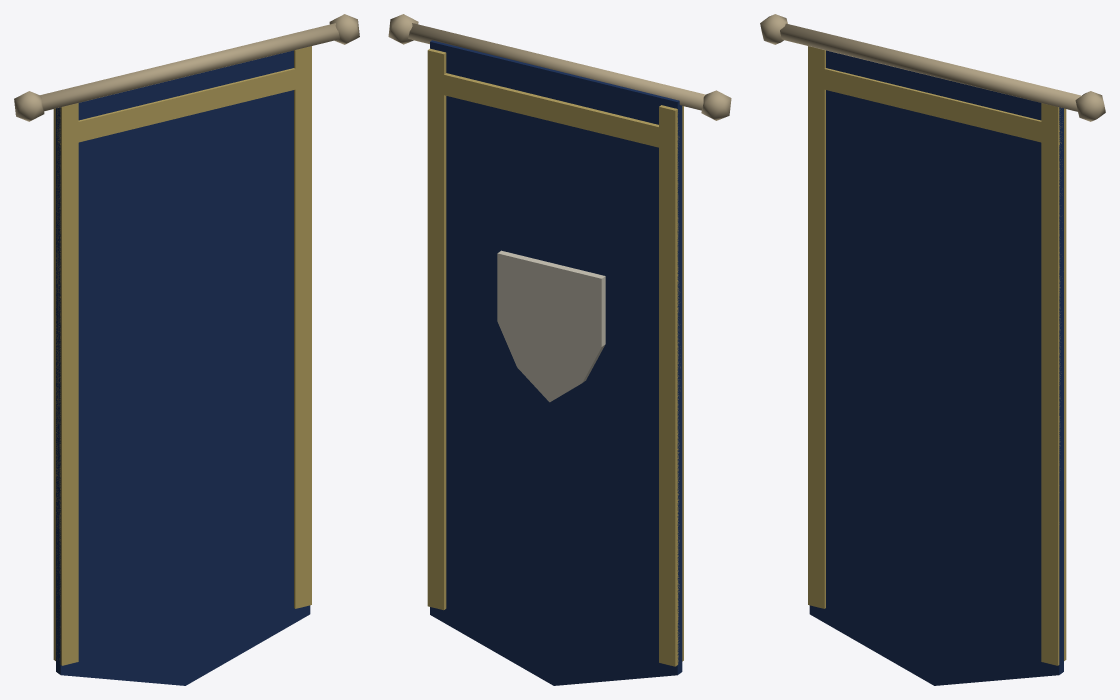
The model's file is pirate_deckhand_banner_v0.glb.
3 views of the same model, side by side, from view 1: azimuth 30°, elevation 25°; view 2: azimuth 150°, elevation 25°; view 3: azimuth 330°, elevation 25° (orthographic).
Parts seen in each view (by area): view 1: pirate_deckhand_banner_v0; view 2: pirate_deckhand_banner_v0; view 3: pirate_deckhand_banner_v0.
Part boxes in pixels (bbox=[...]): pirate_deckhand_banner_v0: bbox=[14, 14, 359, 685]; pirate_deckhand_banner_v0: bbox=[388, 14, 731, 685]; pirate_deckhand_banner_v0: bbox=[760, 14, 1105, 685].
Bounding box in the file's own units: 1.04 × 1.84 × 0.0933.
